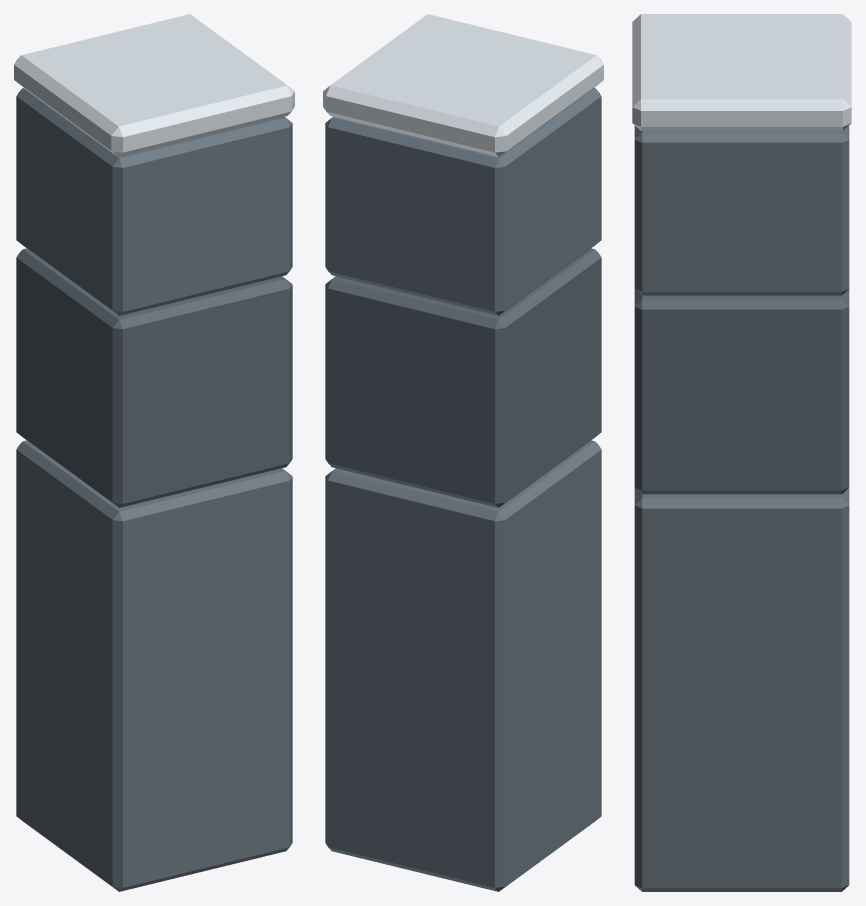
The model's file is column-rime-3b.glb.
3 views of the same model, side by side, from view 1: azimuth 30°, elevation 25°; view 2: azimuth 150°, elevation 25°; view 3: azimuth 270°, elevation 25° (orthographic). The views are drawn at different scales.
Visible parts, largest first — view 1: column-rime-3b; view 2: column-rime-3b; view 3: column-rime-3b.
Boxes of the visible parts, x1,y1,x2,y2 form: column-rime-3b: (14, 14, 294, 891); column-rime-3b: (323, 14, 603, 891); column-rime-3b: (632, 14, 851, 891).
Size of the model in its own units: 1 by 3.99 by 1.
